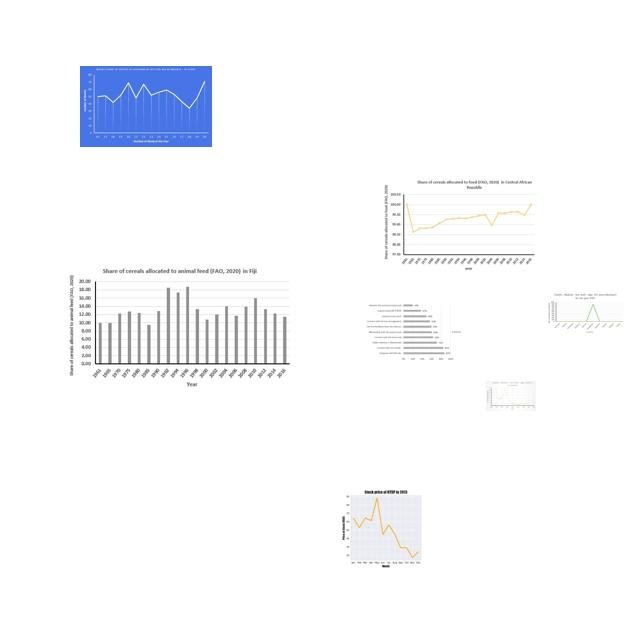Graph: (67, 263, 294, 391), (381, 177, 537, 271), (80, 66, 212, 147), (328, 485, 441, 570), (365, 302, 464, 362), (547, 292, 624, 334), (486, 381, 536, 411)
